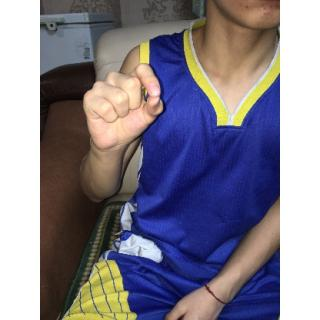FAA: (80, 55, 168, 160)
